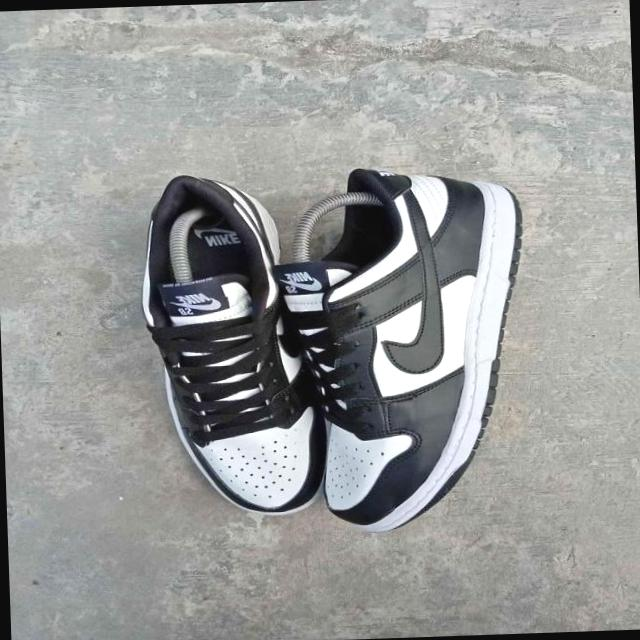nike_fake_jordan: (268, 159, 541, 540), (126, 167, 334, 518)
